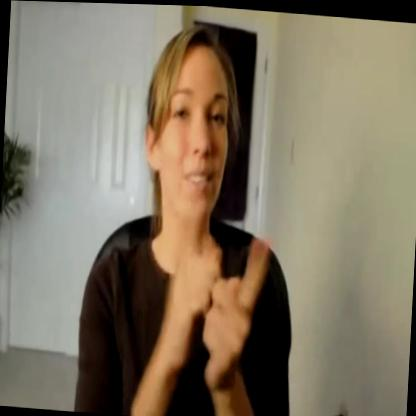NiceToMeetYou: (148, 163, 300, 404)
